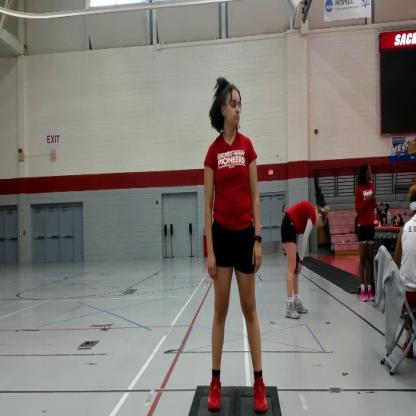lateral_flexion_normal: (202, 72, 270, 416)
stance_width_normal: (202, 129, 268, 416)
